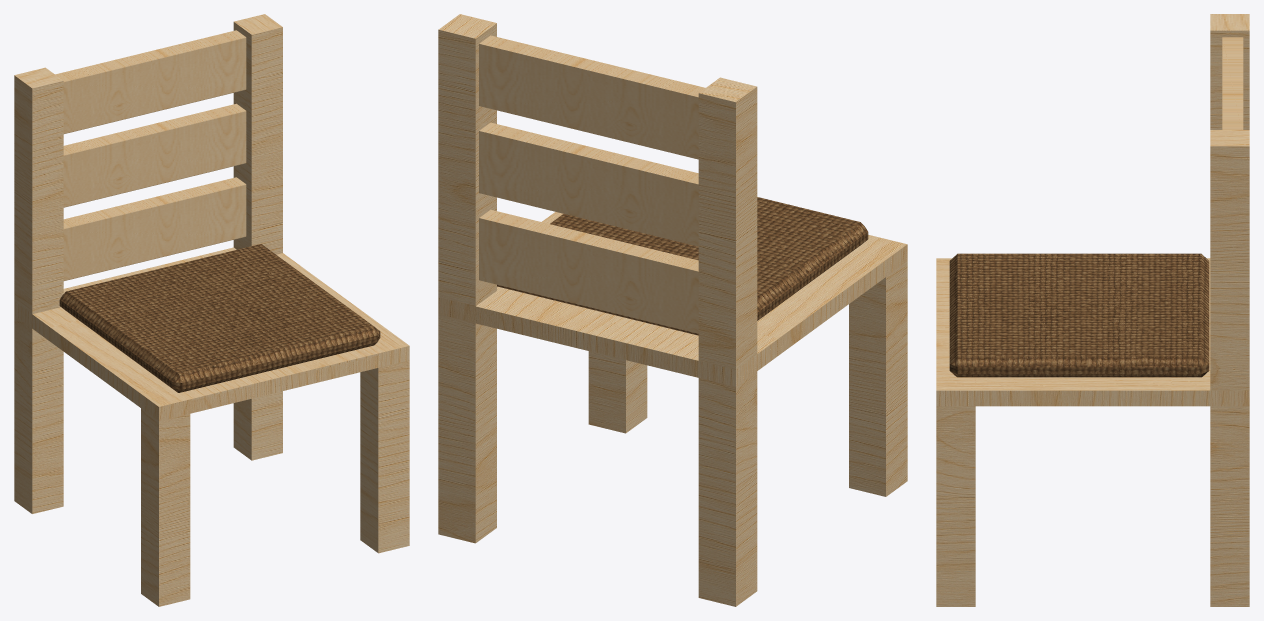
Rendered from WoodenChair.glb.
The picture shows the model from 3 angles, left to right: view 1: azimuth 30°, elevation 25°; view 2: azimuth 150°, elevation 25°; view 3: azimuth 270°, elevation 25°; orthographic projection. The views are drawn at different scales.
Visible parts, largest first — view 1: Chair, Back Panels, Seat; view 2: Chair, Back Panels, Seat; view 3: Chair, Seat, Back Panels.
Part boxes in pixels (x1,y1,x2,y2): Chair: [14, 14, 409, 606]; Back Panels: [55, 30, 246, 280]; Seat: [59, 244, 380, 392]; Chair: [438, 14, 907, 606]; Back Panels: [479, 35, 705, 333]; Seat: [497, 197, 868, 335]; Chair: [936, 14, 1249, 606]; Seat: [949, 253, 1209, 377]; Back Panels: [1222, 37, 1243, 129].
Size of the model in its own units: 2 by 3.24 by 2.
Materials: 3 (3 with a texture image).
